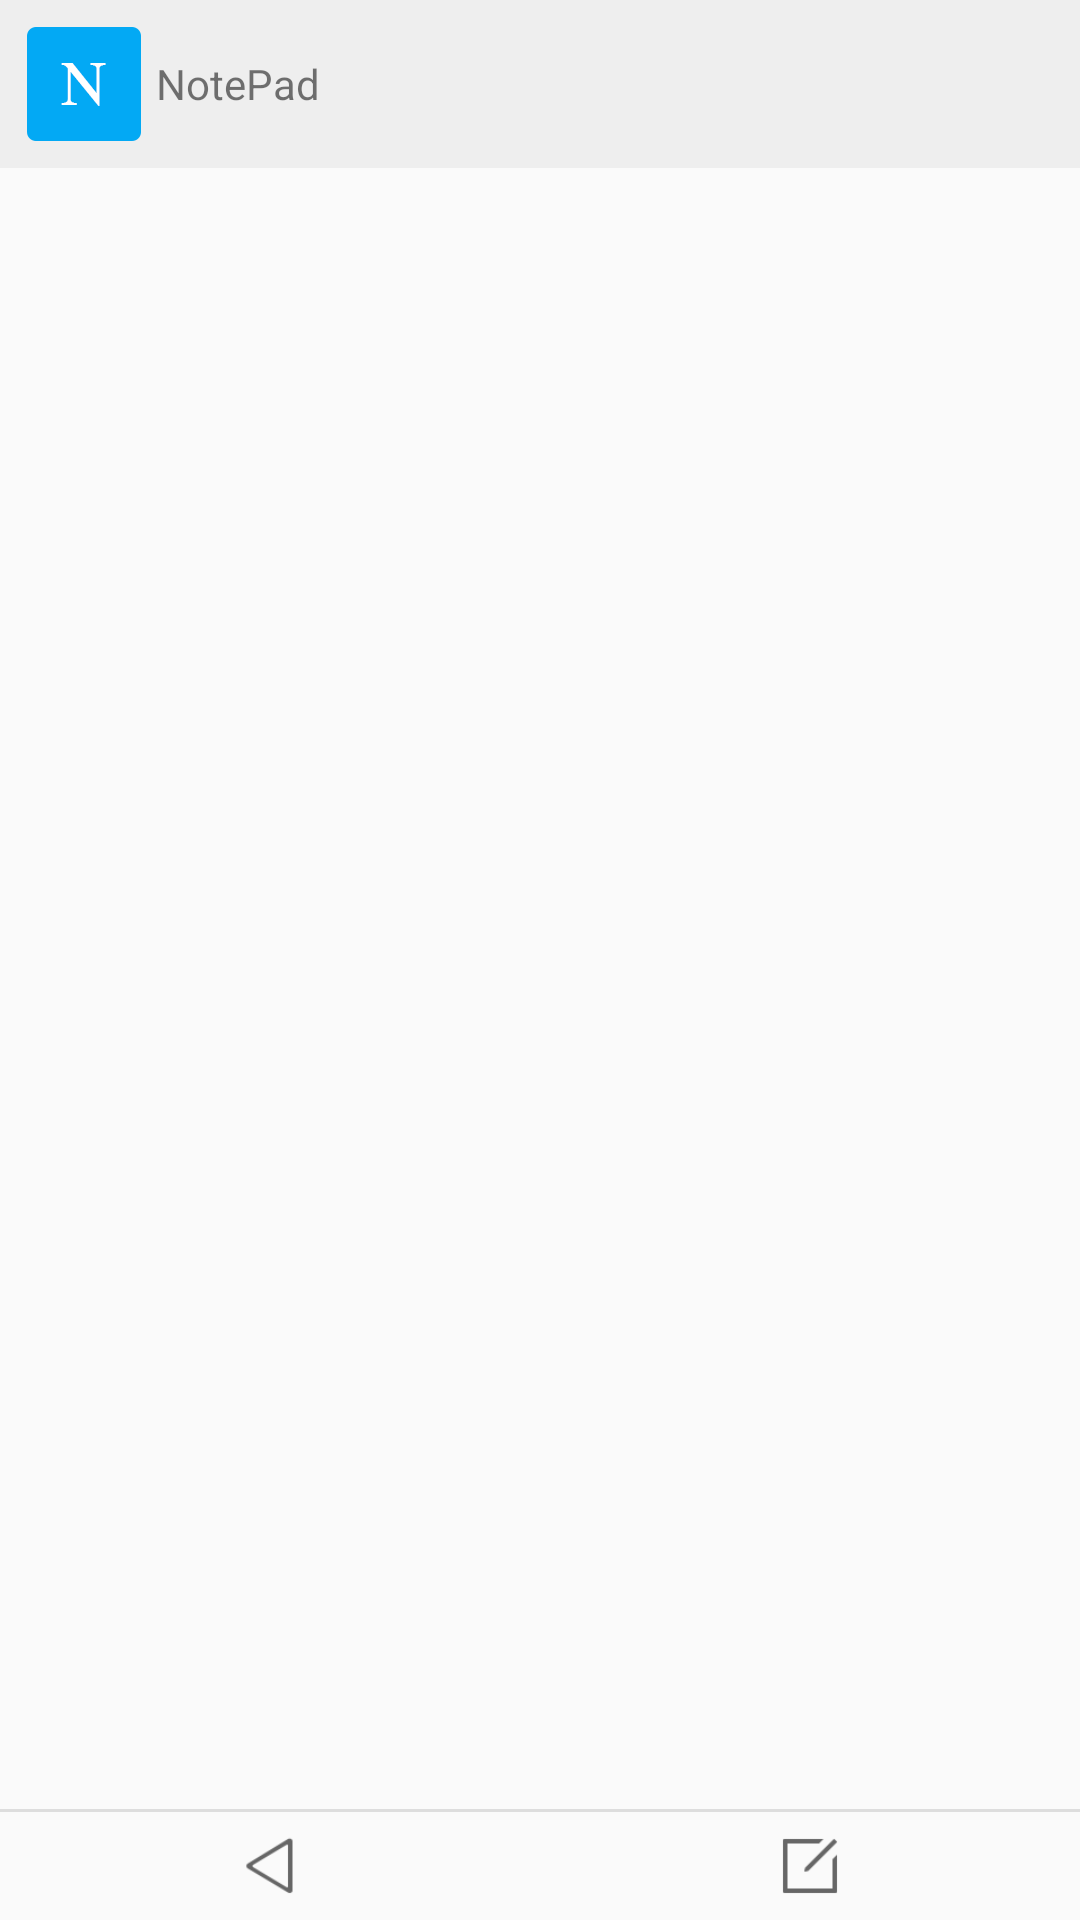

Where icons sit on this 1080w x 1920h app screen, as bbox(x1, y1, x2, y2):
back: bbox(246, 1838, 293, 1893)
edit: bbox(783, 1839, 837, 1893)
